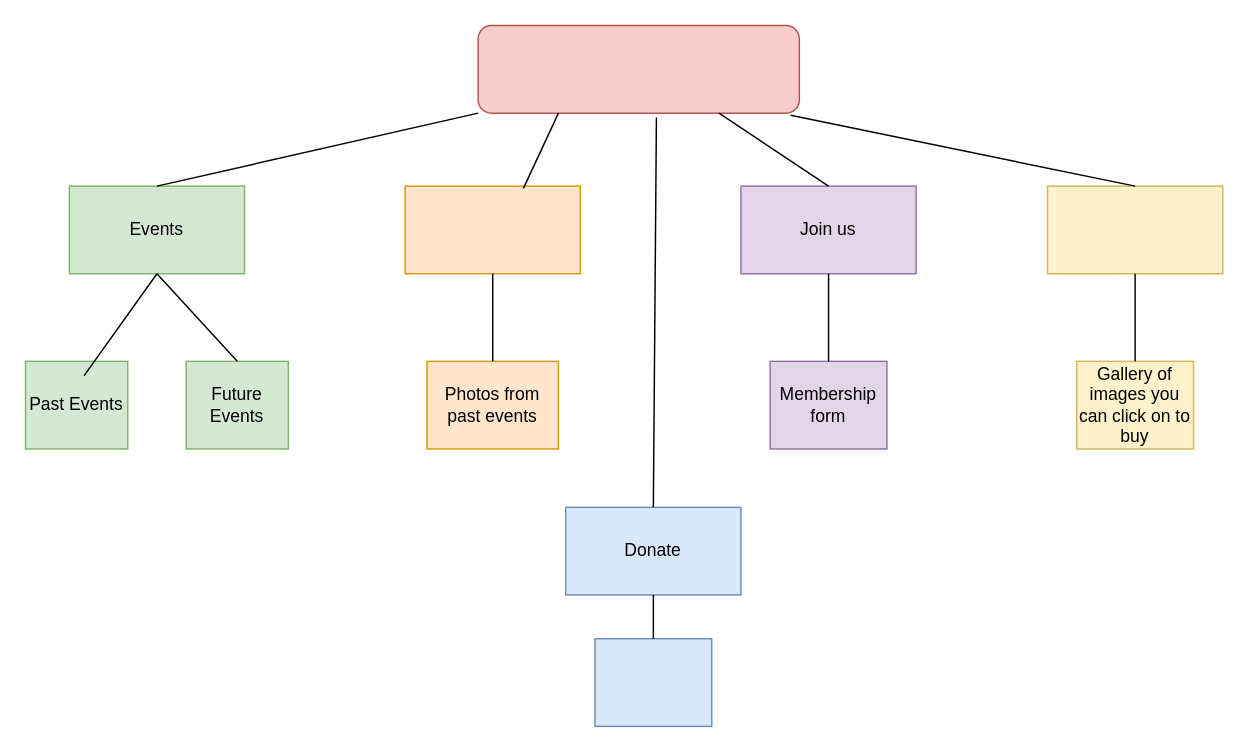
The diagram is 1248 pixels wide and 752 high, and some of its shapes have lost their labels. The shapes that lost their labels are listed below. From the top down, each one's centre as x and y in pixels, then its label:
the point at 638,68: ASA Home Page
the point at 492,229: Gallery
the point at 1134,229: Support/Merch
the point at 652,681: Donation form + thanks for sponsors
